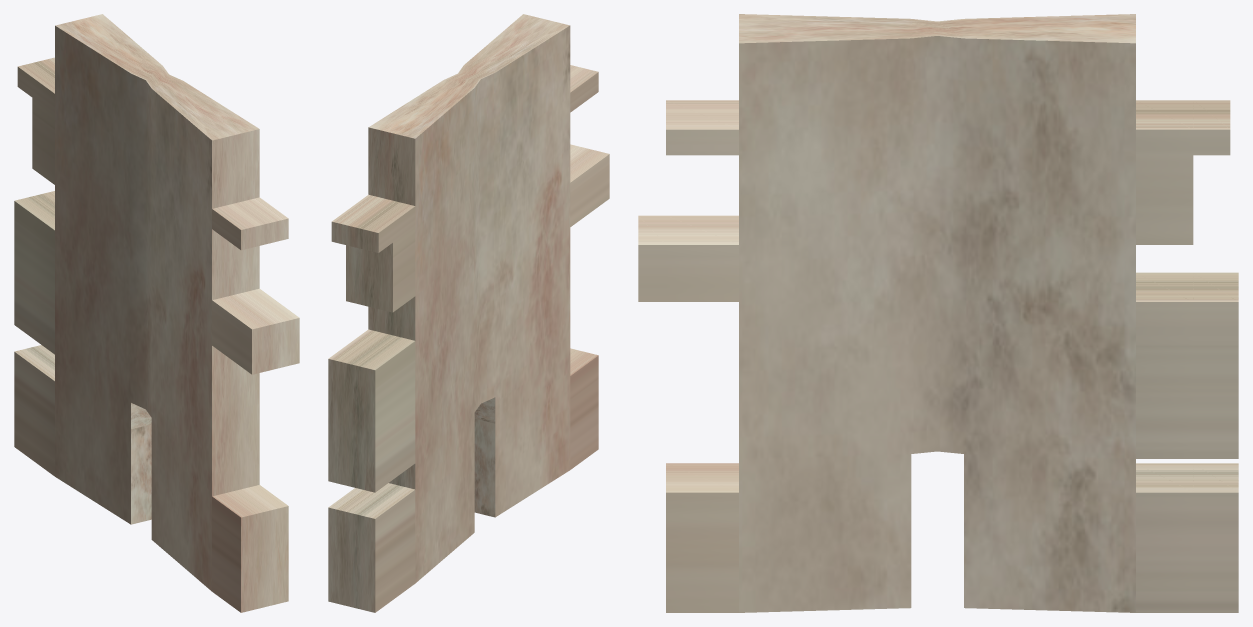
File: keyPart2.fbx
3 renders of one model, left to right at view 1: azimuth 30°, elevation 25°; view 2: azimuth 150°, elevation 25°; view 3: azimuth 270°, elevation 25°, orthographic. The views are drawn at different scales.
Parts seen in each view (by area): view 1: pCube7; view 2: pCube7; view 3: pCube7.
Part boxes in pixels (<box>): pCube7: <box>14,14,299,612</box>; pCube7: <box>328,14,609,612</box>; pCube7: <box>638,14,1238,612</box>.
Bounding box in the file's own units: 0.2073 × 1.88 × 1.79.
Materials: 1 (1 with a texture image).
